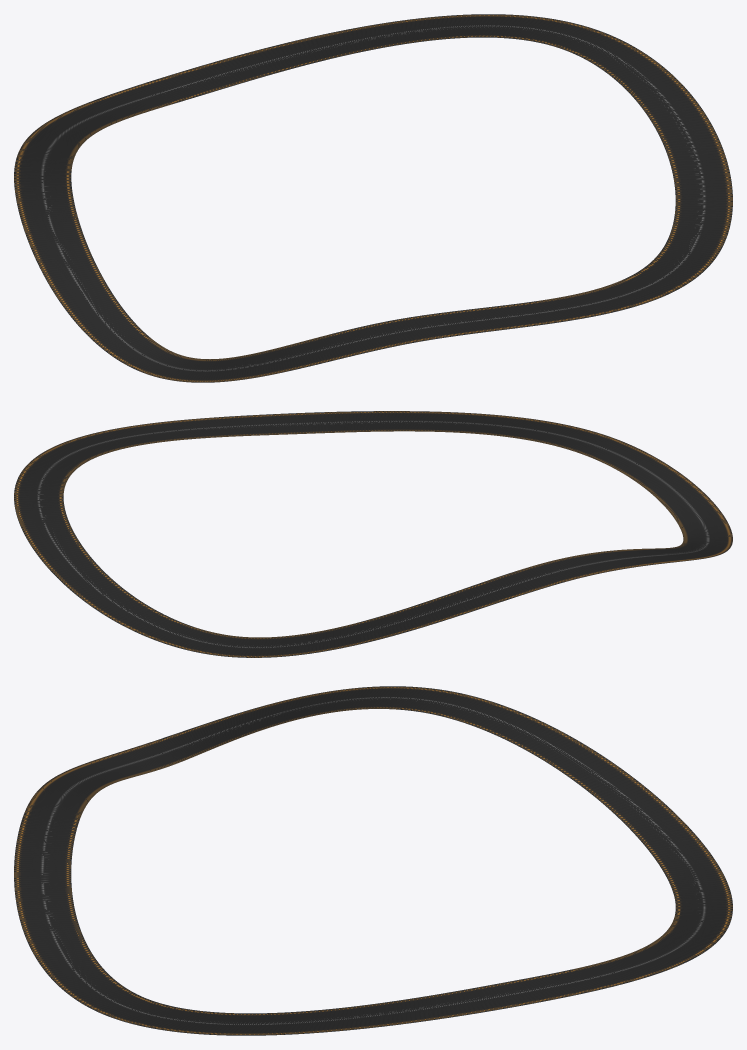
Rendered from pista.obj.
3 views of the same model, one above another, from view 1: azimuth 30°, elevation 25°; view 2: azimuth 150°, elevation 25°; view 3: azimuth 270°, elevation 25° (orthographic). The views are drawn at different scales.
Visible parts, largest first — view 1: road; view 2: road; view 3: road.
Part boxes in pixels (x1,y1,x2,y2): road: (14,14,732,382); road: (14,411,732,657); road: (14,686,732,1035).
Size of the model in its own units: 1.37 by 0.1297 by 1.26.
